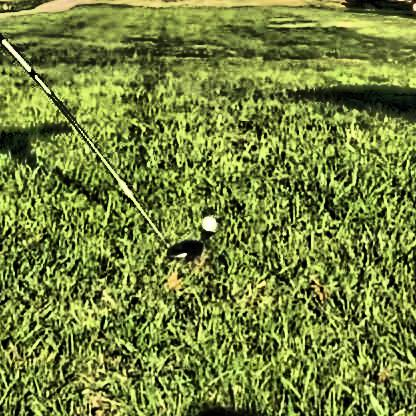golfball: (198, 213, 215, 230)
